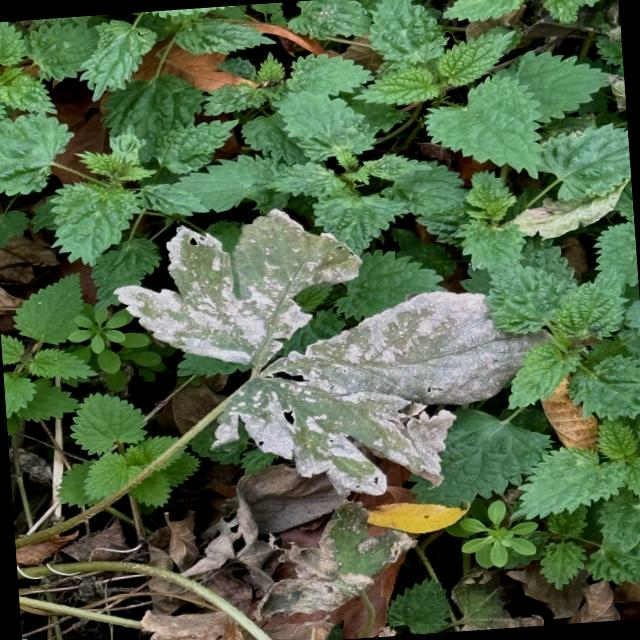powdery_mildew: (115, 210, 360, 366), (275, 291, 544, 404), (215, 377, 443, 494)
